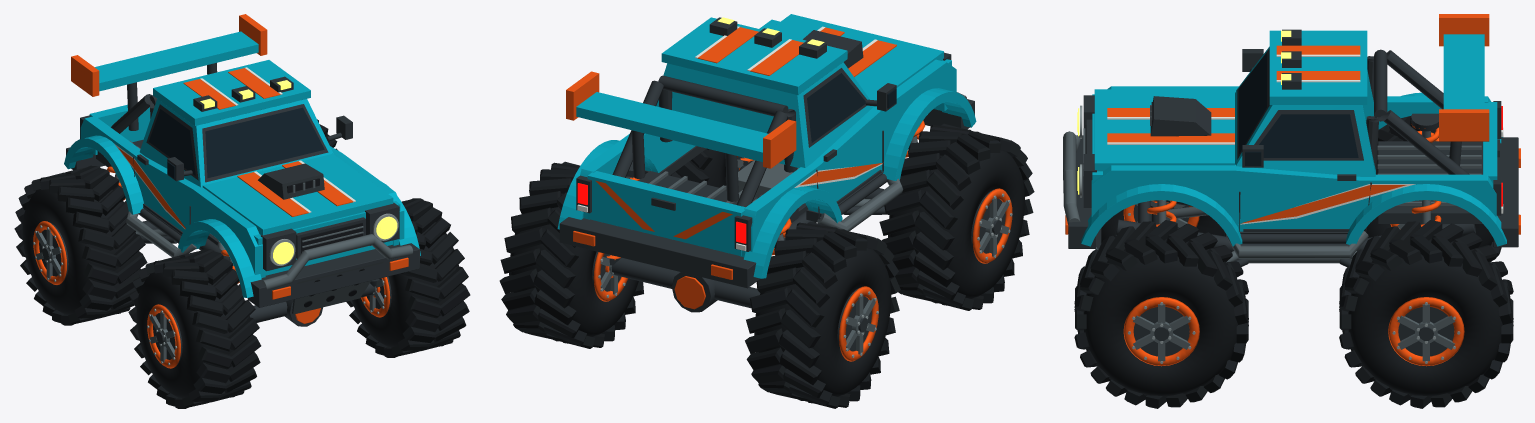
File: monstertruck.glb
The picture shows the model from 3 angles, left to right: view 1: azimuth 30°, elevation 25°; view 2: azimuth 150°, elevation 25°; view 3: azimuth 270°, elevation 25°; orthographic projection. The views are drawn at different scales.
Visible parts, largest first — view 1: Bodywork, WheelMesh_FR, WheelMesh_RR, WheelMesh_FL, Frame_and_bumpers; view 2: Bodywork, WheelMesh_RR, WheelMesh_FR, WheelMesh_RL, Frame_and_bumpers, WheelMesh_FL; view 3: Bodywork, WheelMesh_RL, WheelMesh_FL, Frame_and_bumpers, WheelMesh_FR, WheelMesh_RR, Spring_and_damper_RR, Spring_and_damper_FL.
Boxes of the visible parts, x1,y1,x2,y2 form: Bodywork: (64,14,420,297); WheelMesh_FR: (128,249,261,408); WheelMesh_RR: (14,165,147,325); WheelMesh_FL: (346,198,470,357); Frame_and_bumpers: (66,147,419,326); Bodywork: (557,14,976,278); WheelMesh_RR: (745,221,900,408); WheelMesh_FR: (879,123,1034,310); WheelMesh_RL: (499,161,643,348); Frame_and_bumpers: (559,92,974,312); WheelMesh_FL: (670,148,743,187); Bodywork: (1077,14,1506,246); WheelMesh_RL: (1339,220,1513,408); WheelMesh_FL: (1074,220,1248,408); Frame_and_bumpers: (1063,131,1520,267); WheelMesh_FR: (1101,201,1224,243); WheelMesh_RR: (1364,115,1501,260); Spring_and_damper_RR: (1411,113,1438,142); Spring_and_damper_FL: (1147,200,1176,226).
Size of the model in its own units: 4.76 by 3.91 by 5.81.
